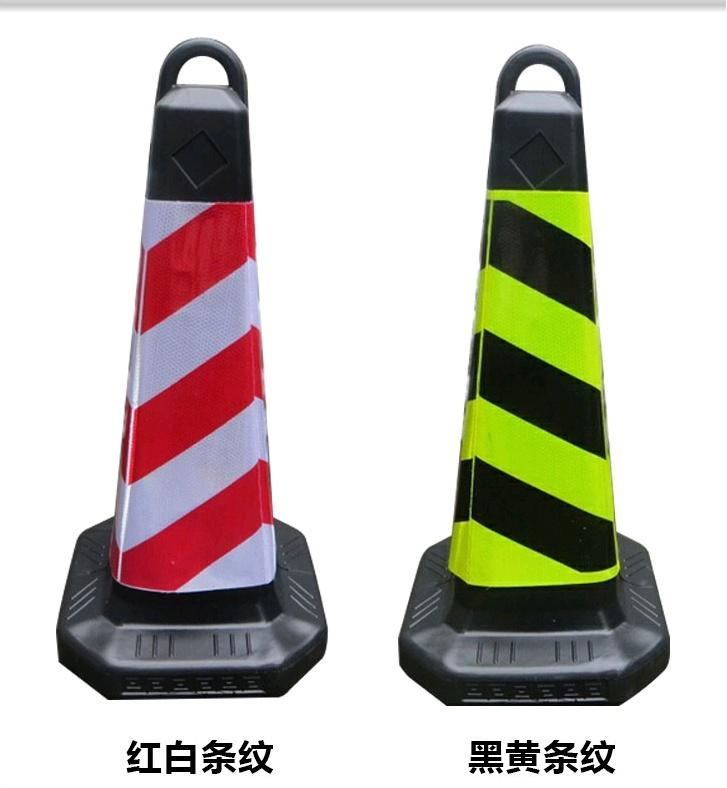cone_barrel: (397, 43, 667, 717), (62, 44, 329, 691)
